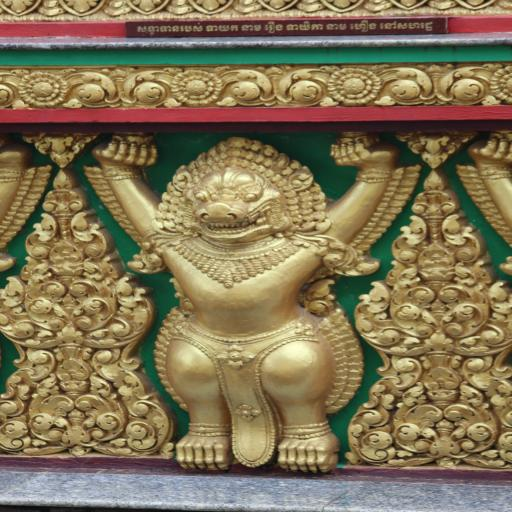hoa: (18, 68, 73, 108), (168, 67, 220, 106), (328, 66, 376, 104), (493, 67, 512, 107)
la: (356, 170, 512, 354), (0, 174, 152, 344), (352, 354, 512, 467), (0, 345, 171, 450), (376, 67, 493, 104), (222, 66, 327, 106), (67, 68, 167, 107), (17, 128, 97, 168), (402, 132, 475, 169)
than: (100, 130, 377, 480)
